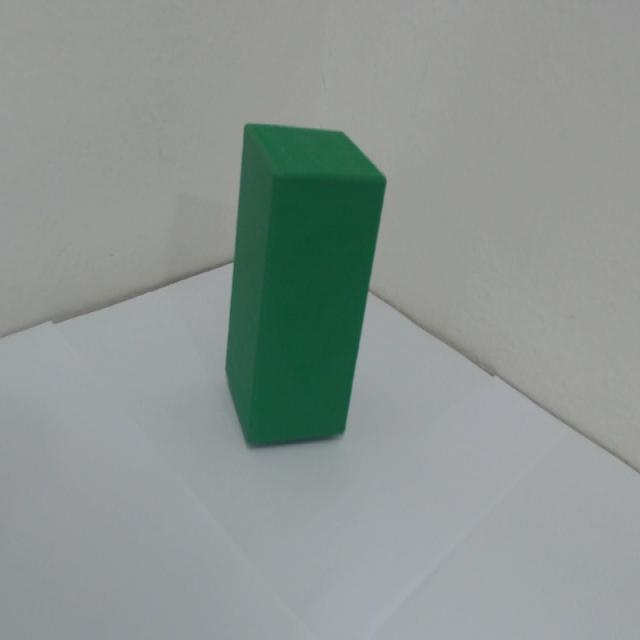cube: (196, 67, 411, 489)
